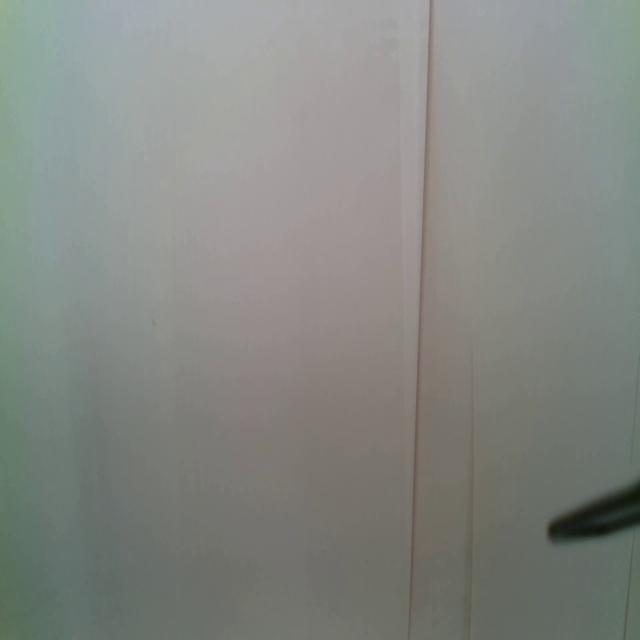crease: (407, 0, 433, 636), (462, 349, 477, 640), (622, 527, 637, 640)
